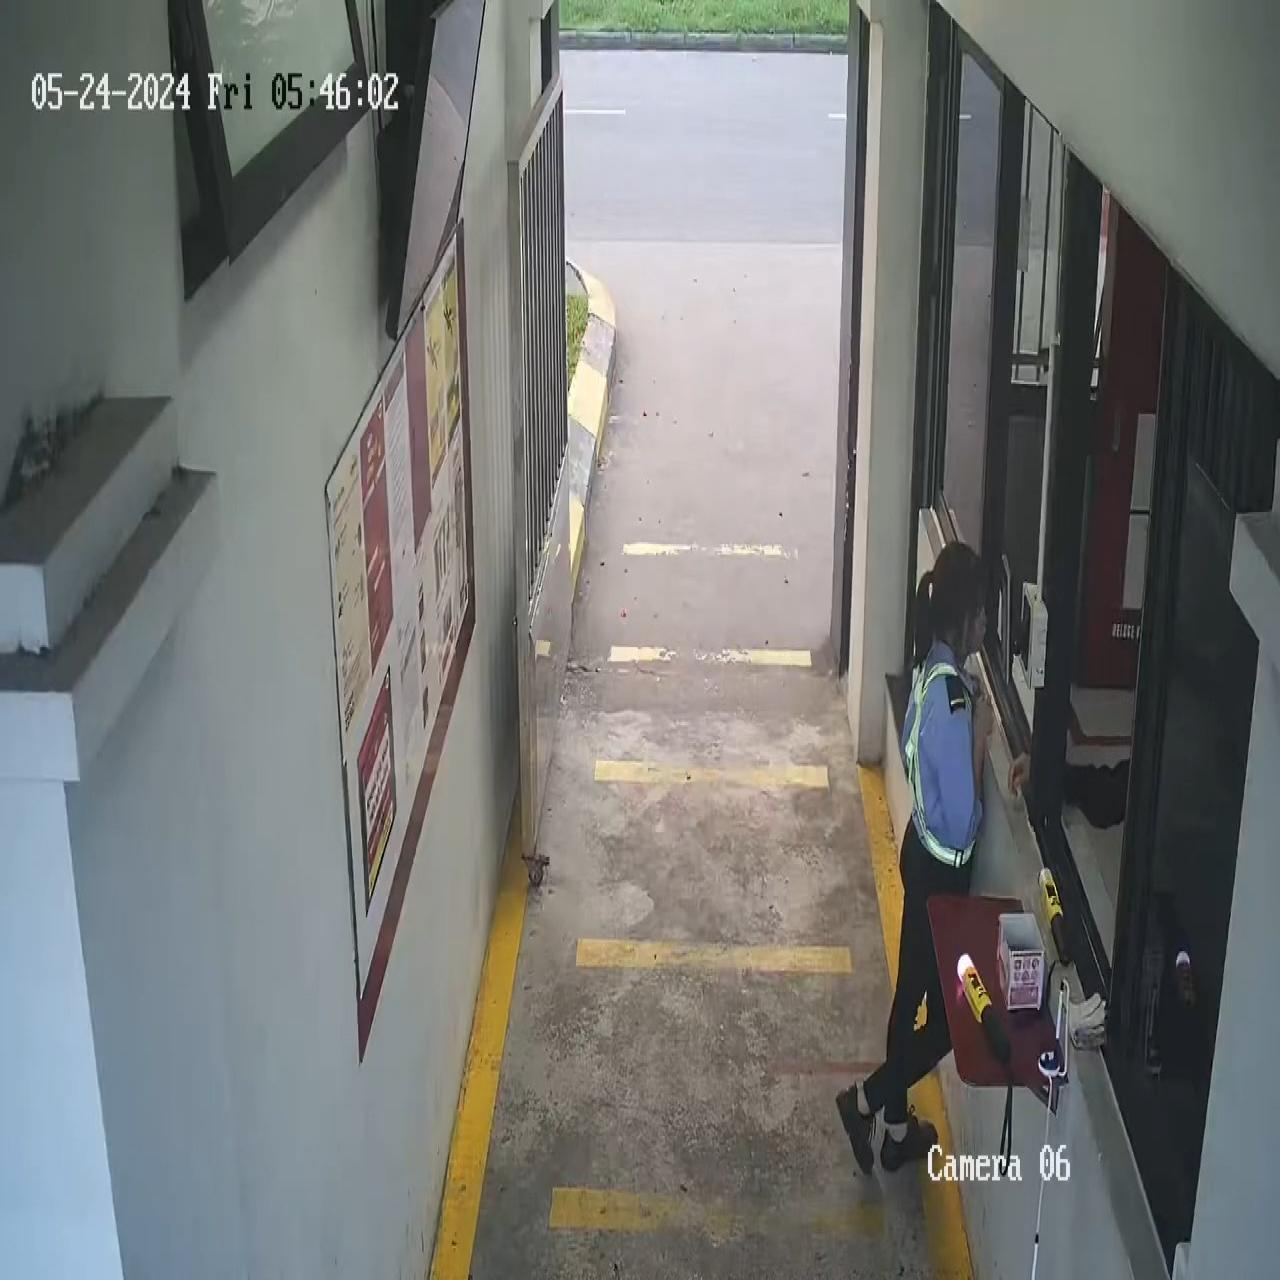breathalyzer: (951, 940, 1014, 1064), (1034, 860, 1085, 969)
guard: (833, 540, 998, 1177)
